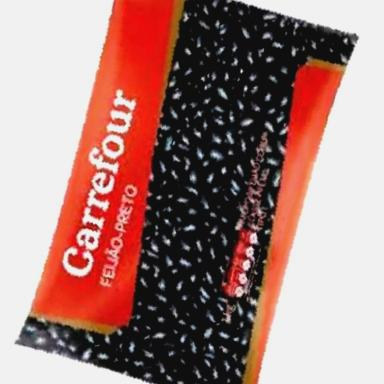beans package: (17, 0, 357, 383)
